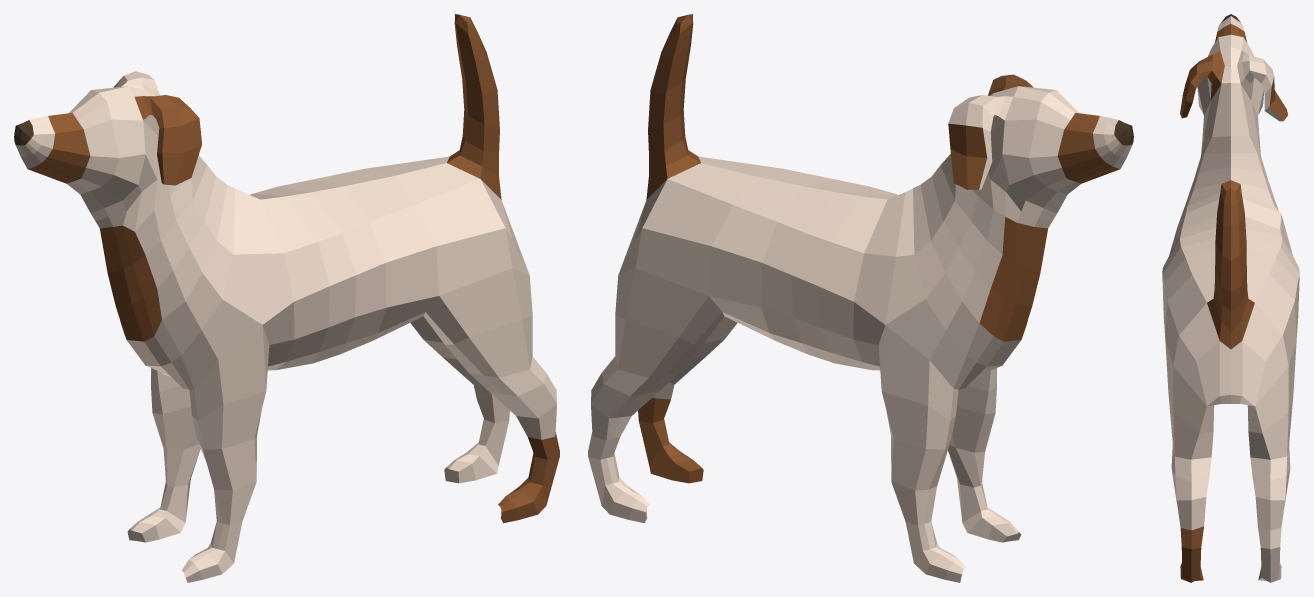
Rendered from dog.glb.
The picture shows the model from 3 angles, left to right: view 1: azimuth 30°, elevation 25°; view 2: azimuth 150°, elevation 25°; view 3: azimuth 270°, elevation 25°; orthographic projection. The views are drawn at different scales.
Parts seen in each view (by area): view 1: dog_1; view 2: dog_1; view 3: dog_1.
Boxes of the visible parts, <box> form: dog_1: <box>14,14,559,582</box>; dog_1: <box>588,14,1133,582</box>; dog_1: <box>1162,14,1299,582</box>.
Size of the model in its own units: 3.22 by 2.97 by 0.9437.
